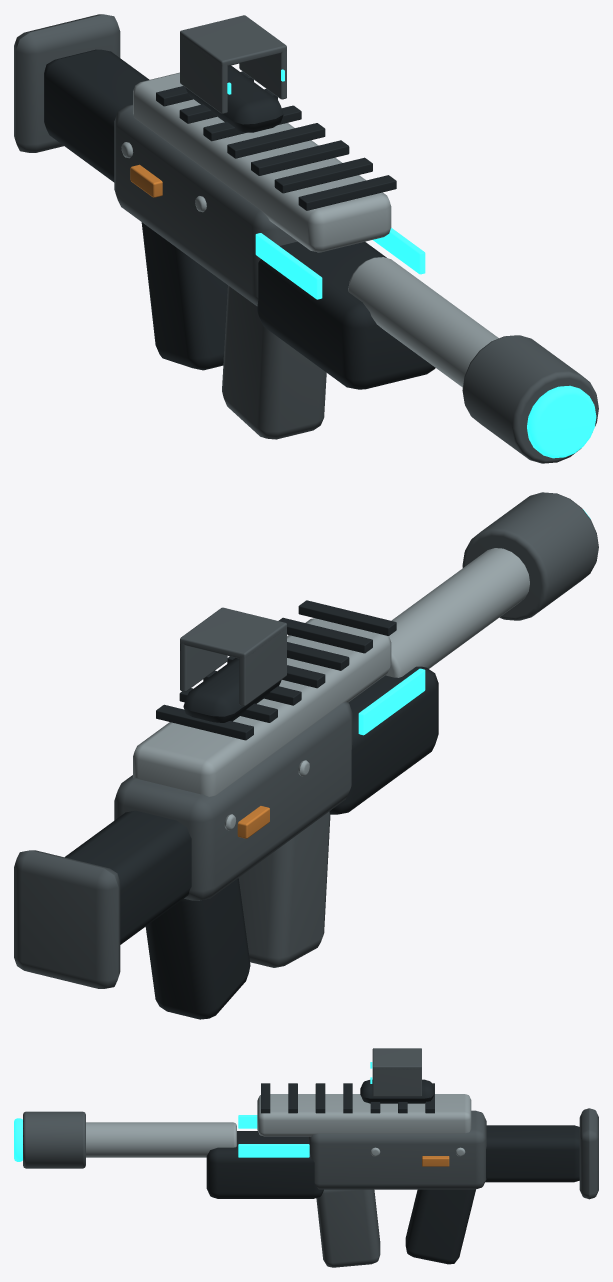
The model's file is coil-rifle.glb.
The picture shows the model from 3 angles, top to bottom: view 1: azimuth 30°, elevation 25°; view 2: azimuth 150°, elevation 25°; view 3: azimuth 270°, elevation 25°; orthographic projection. The views are drawn at different scales.
Parts seen in each view (by area): view 1: coil-rifle; view 2: coil-rifle; view 3: coil-rifle.
Part boxes in pixels (<box>): coil-rifle: <box>14,14,598,463</box>; coil-rifle: <box>14,492,598,1019</box>; coil-rifle: <box>14,1048,598,1267</box>.
Bounding box in the file's own units: 0.285 × 0.8251 × 2.13.
